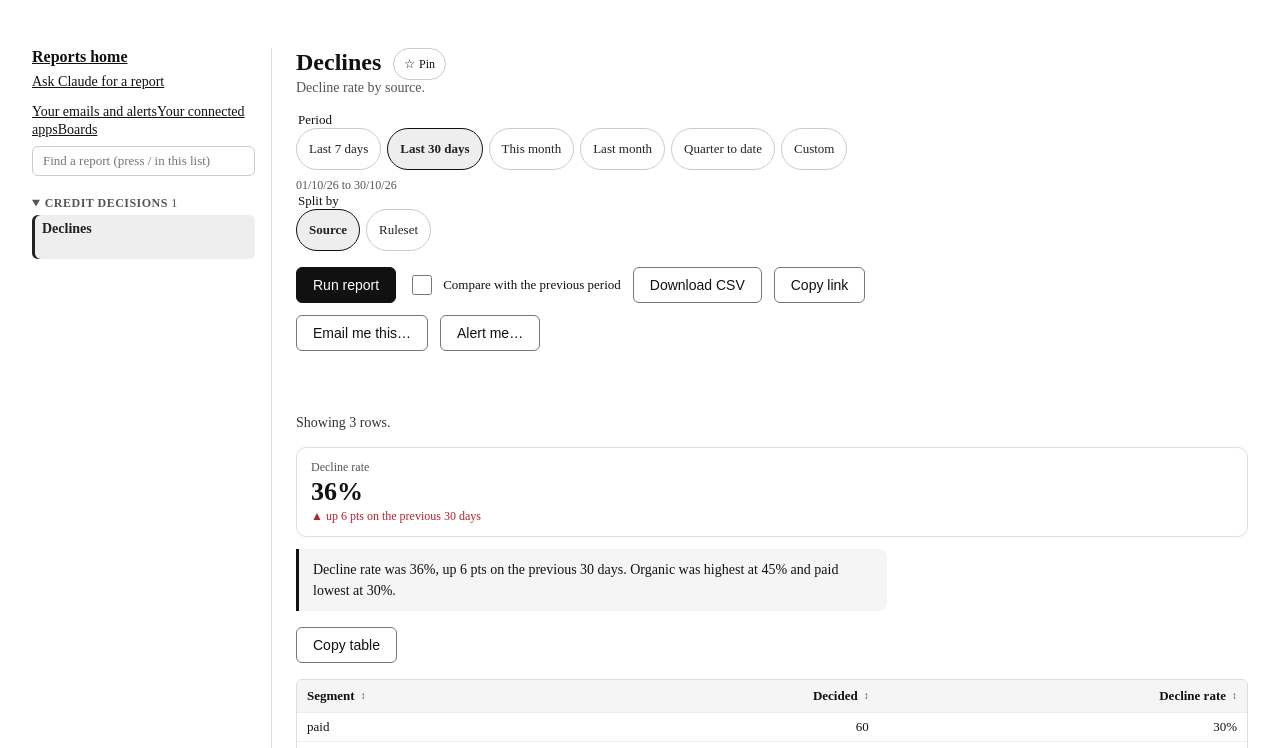
Scenario: ReportsView › offers preset periods, compares with the previous period and leads with the headline
This screenshot has width=1280, height=748.
Expected: the radio button labelled "Last 30 days" is checked, [387,128,483,170]
Expected: the element with test id "report-headline" is shown, [296,447,1248,611]
Click the checkbox labelled "Compare with the previous period".
click(422, 285)  # box [412,275,432,295]
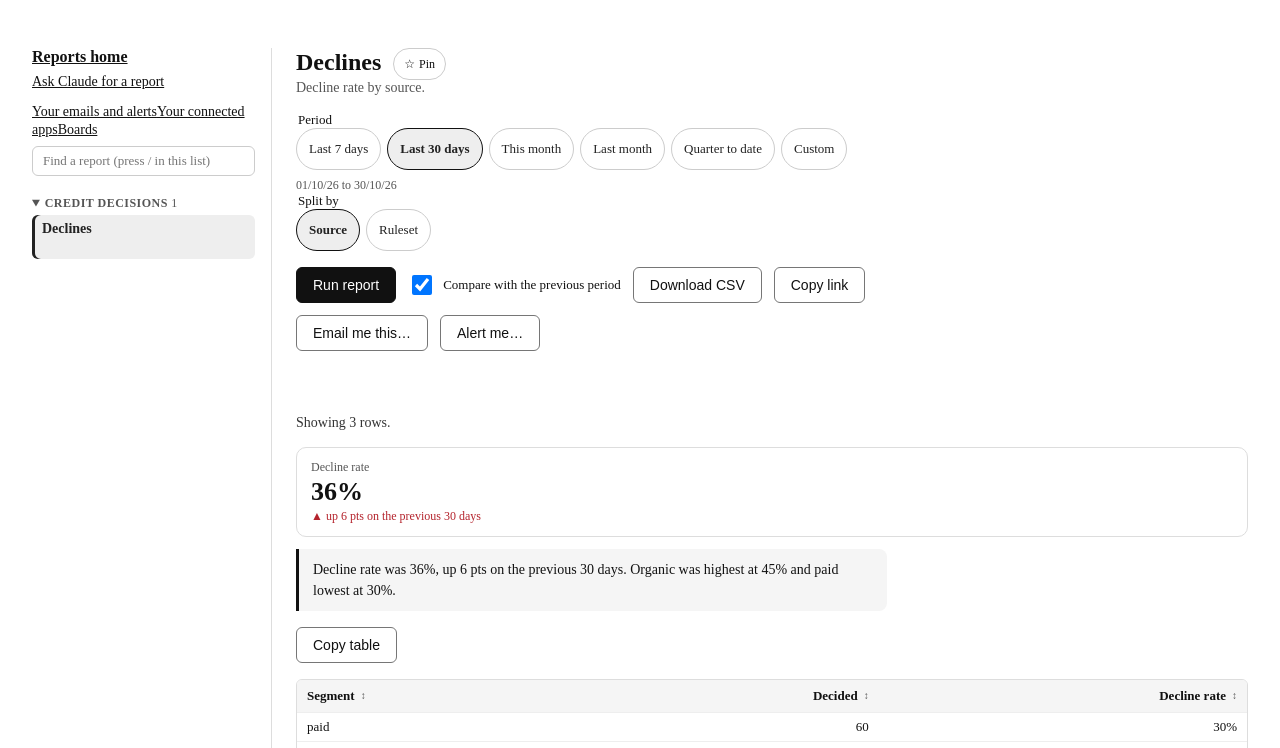
Expected: the text "▲ up 6 pts on the previous 30 days" is shown 2 times, [311,508,516,523]; [296,549,887,611]
Expected: the text with test id "report-narrative" shows "Decline rate was 36%, up 6 pts on the previous 30 days.", [313,562,838,598]
Click the radio button labelled "Last 7 days".
click(339, 149)  # box [296,128,381,170]
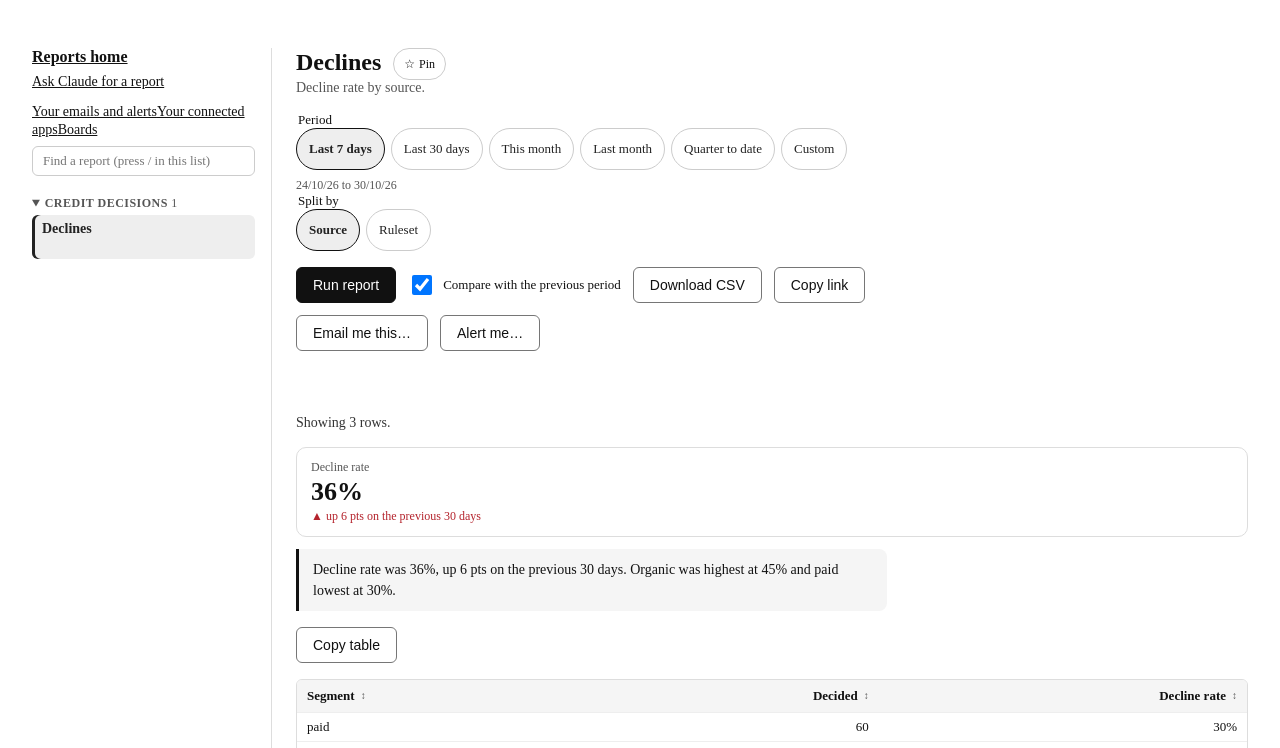
Click the radio button labelled "Custom".
click(814, 149)  # box [781,128,848,170]
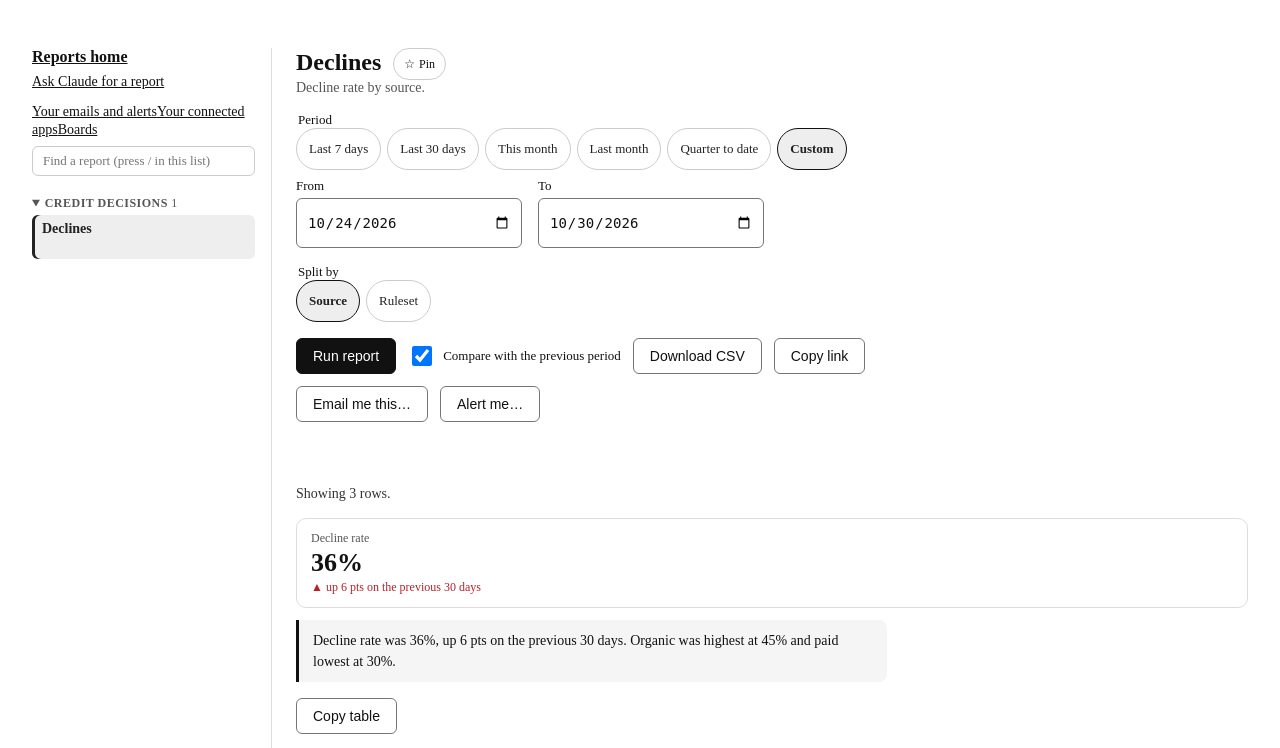
Expected: the date field labelled "From" is shown, [296,198,522,248]
